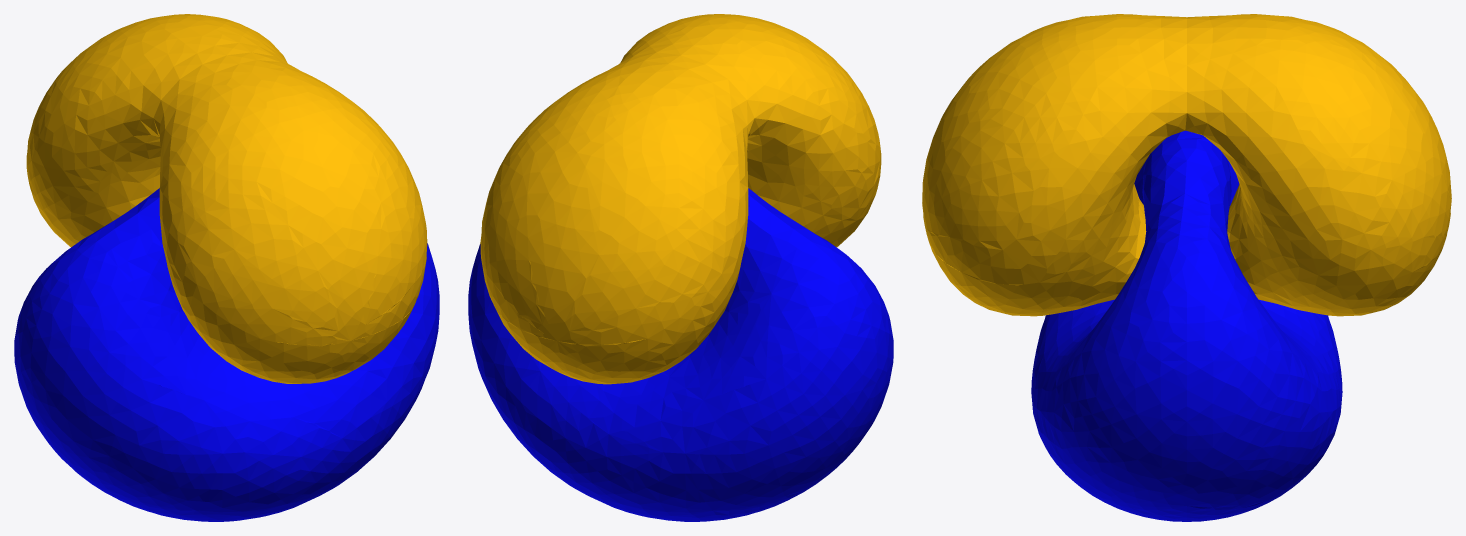
3 renders of one model, left to right at view 1: azimuth 30°, elevation 25°; view 2: azimuth 150°, elevation 25°; view 3: azimuth 270°, elevation 25°, orthographic. The views are drawn at different scales.
Size of the model in its own units: 18.03 by 19.72 by 20.09.
